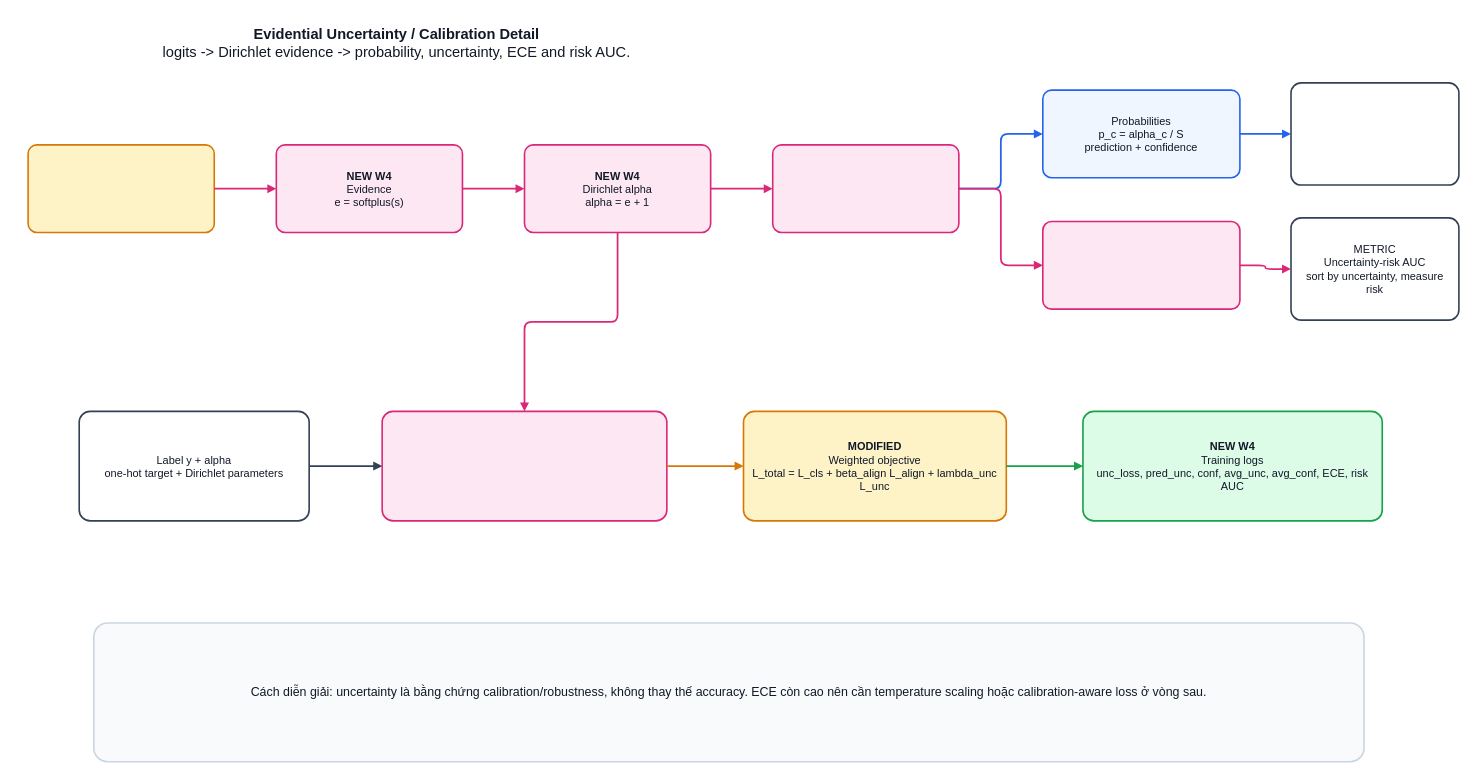
This 1472x775 diagram has some shape labels left out. Here are the shapes that lost their labels. From the top down, the centre of each, then its label:
[1374,133]: METRIC ECE bin confidence vs. accuracy
[121,188]: MODIFIED Fused logits s = w_cls s_cls + w_g s_g + w_l s_l
[865,188]: NEW W4 Strength S = sum_c alpha_c
[1141,265]: NEW W4 Uncertainty score u(x) = K / S
[524,465]: NEW W4 Evidential CE loss NLL_Dirichlet + anneal * KL(alpha_tilde || Uniform)
